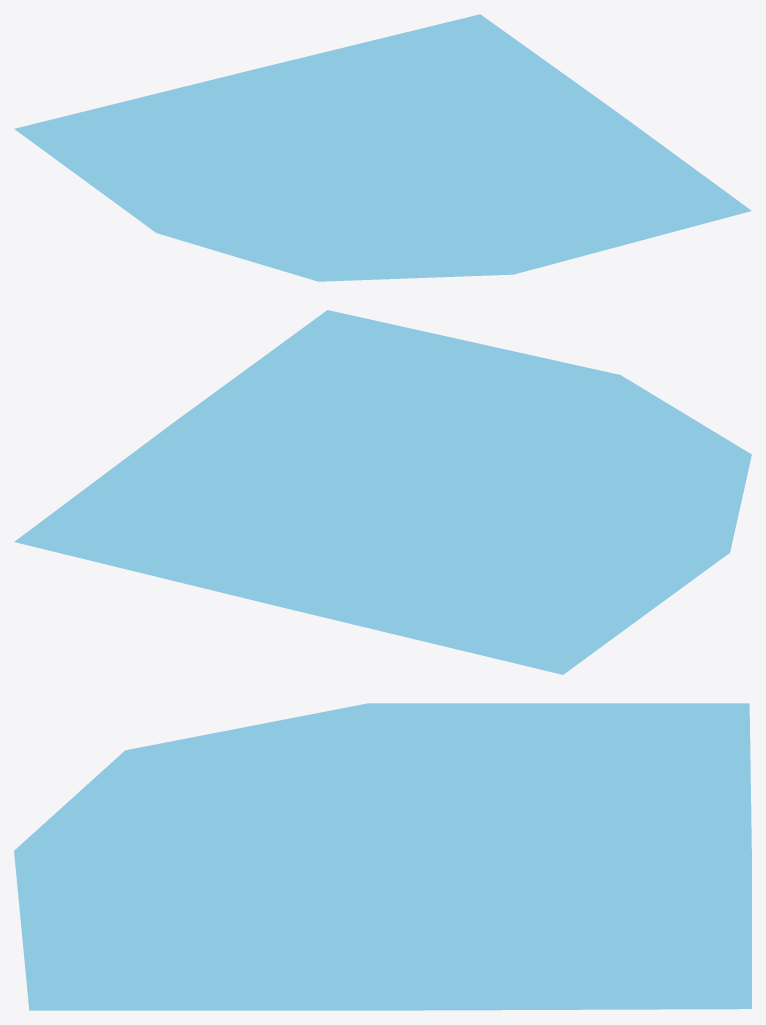
Rendered from pond.fbx.
3 renders of one model, top to bottom at view 1: azimuth 30°, elevation 25°; view 2: azimuth 150°, elevation 25°; view 3: azimuth 270°, elevation 25°, orthographic. The views are drawn at different scales.
Visible parts, largest first — view 1: Cube.002; view 2: Cube.002; view 3: Cube.002.
Part boxes in pixels (x1,y1,x2,y2): Cube.002: [14, 14, 751, 281]; Cube.002: [14, 310, 751, 674]; Cube.002: [14, 703, 751, 1010].
Bounding box in the file's own units: 589 × 2.58e-05 × 581.
